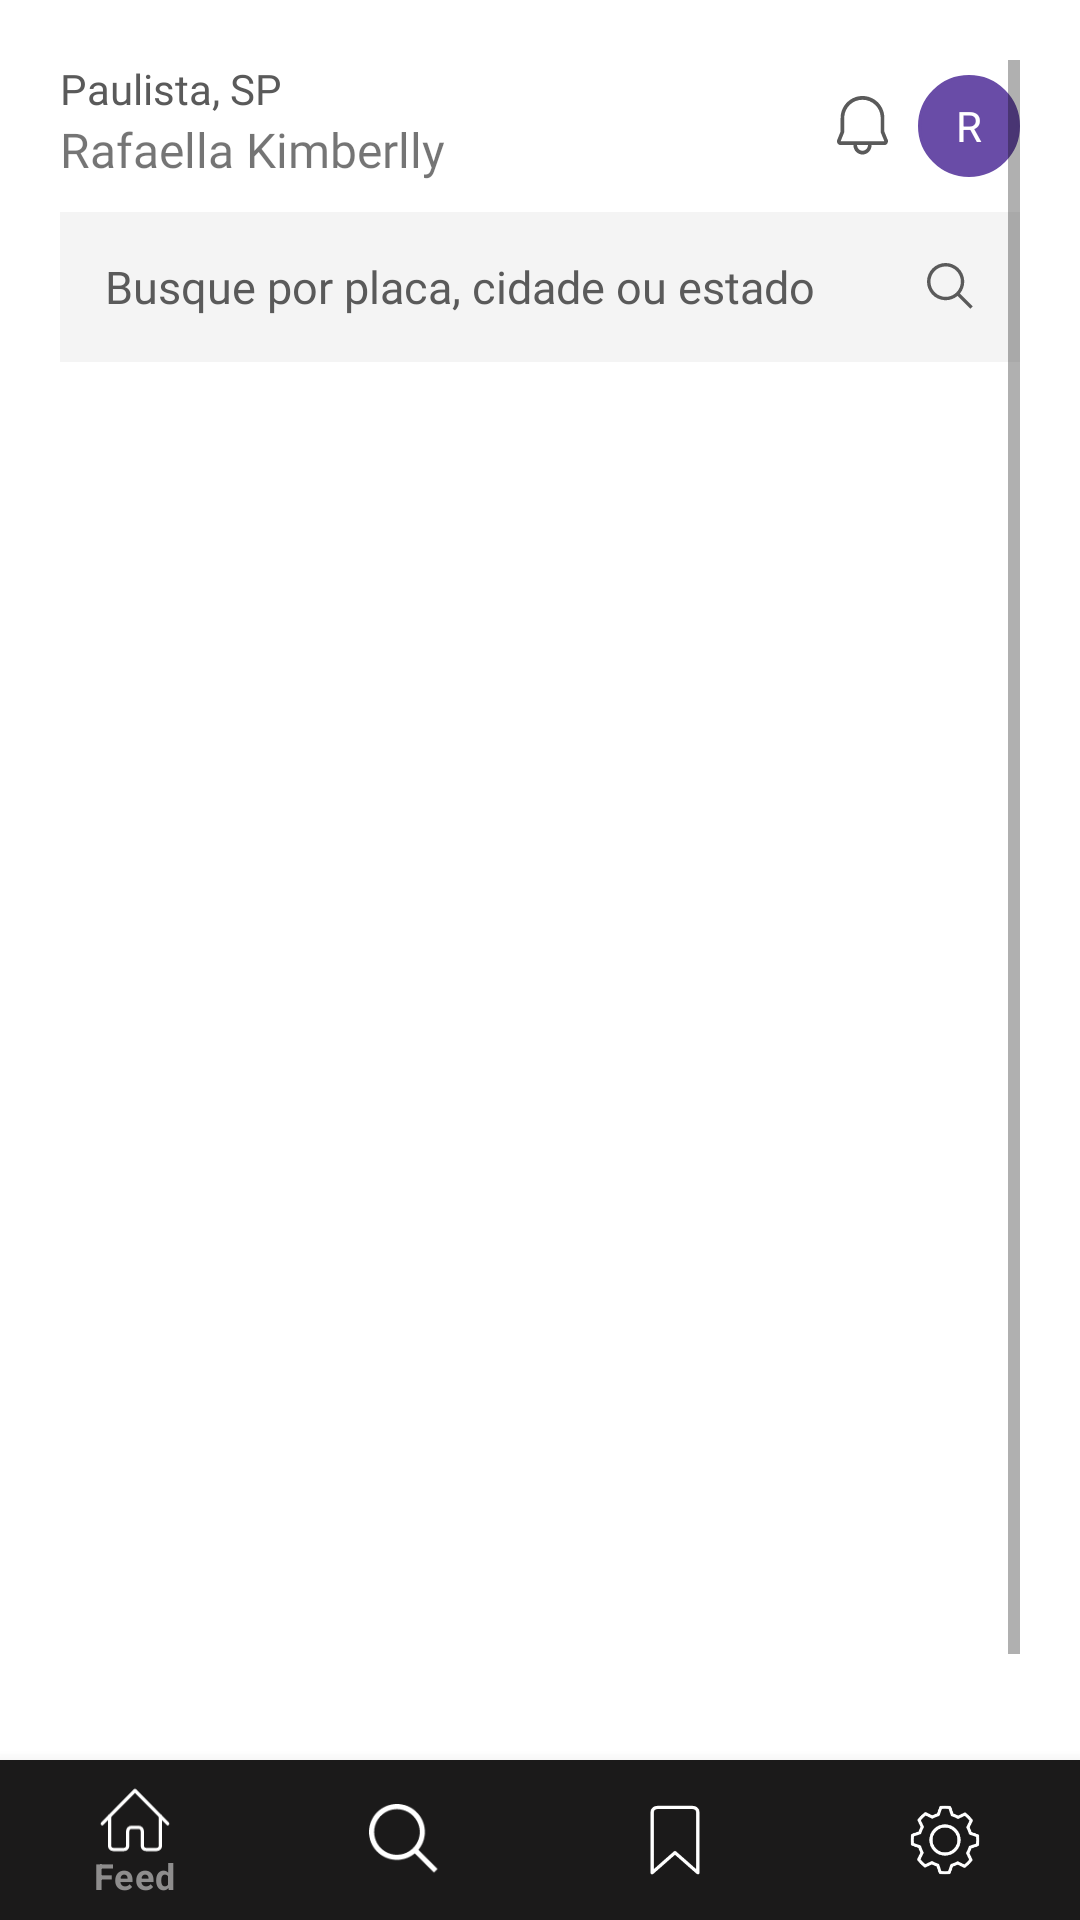

Locate icon controls on the screen. Image size 1080 x 1920, boxes as (x1, y1, x2, y2).
vectornotification: (837, 96, 888, 155)
vectorsearch: (927, 263, 973, 309)
